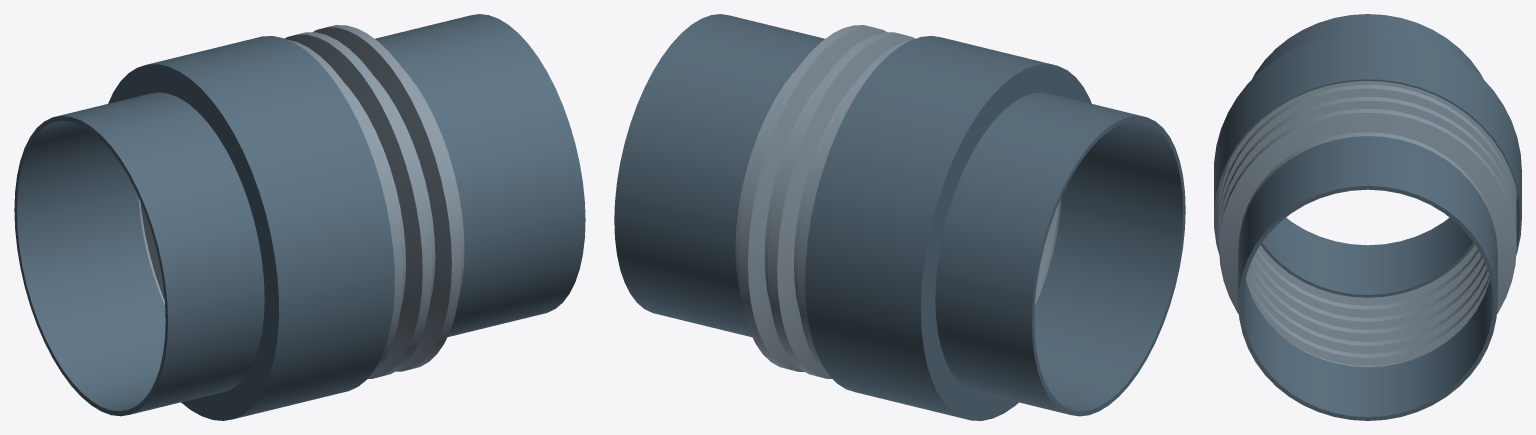
File: silf-dn400-L668-D426-k-o479.glb
The picture shows the model from 3 angles, left to right: view 1: azimuth 30°, elevation 25°; view 2: azimuth 150°, elevation 25°; view 3: azimuth 270°, elevation 25°; orthographic projection. The views are drawn at different scales.
Visible parts, largest first — view 1: patrubok_1, osnovanie_kozhuh_1, patrubok_2, prokladka_silfon_1; view 2: patrubok_1, osnovanie_kozhuh_1, patrubok_2, prokladka_silfon_1; view 3: prokladka_silfon_1, patrubok_2, osnovanie_kozhuh_1, patrubok_1.
Part boxes in pixels (<box>): patrubok_1: <box>14,92,264,416</box>; osnovanie_kozhuh_1: <box>108,36,394,420</box>; patrubok_2: <box>375,14,585,337</box>; prokladka_silfon_1: <box>138,25,464,378</box>; patrubok_1: <box>935,92,1185,416</box>; osnovanie_kozhuh_1: <box>805,36,1091,420</box>; patrubok_2: <box>614,14,824,337</box>; prokladka_silfon_1: <box>735,25,1061,378</box>; prokladka_silfon_1: <box>1219,81,1516,367</box>; patrubok_2: <box>1238,136,1497,420</box>; osnovanie_kozhuh_1: <box>1214,31,1521,254</box>; patrubok_1: <box>1252,14,1483,297</box>.
Size of the model in its own units: 668 by 506 by 506.
